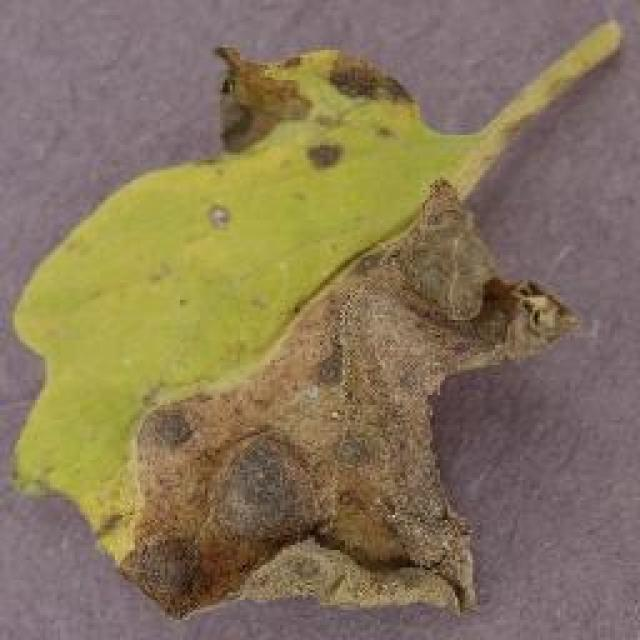Tomato___Septoria_leaf_spot: (12, 20, 620, 615)
